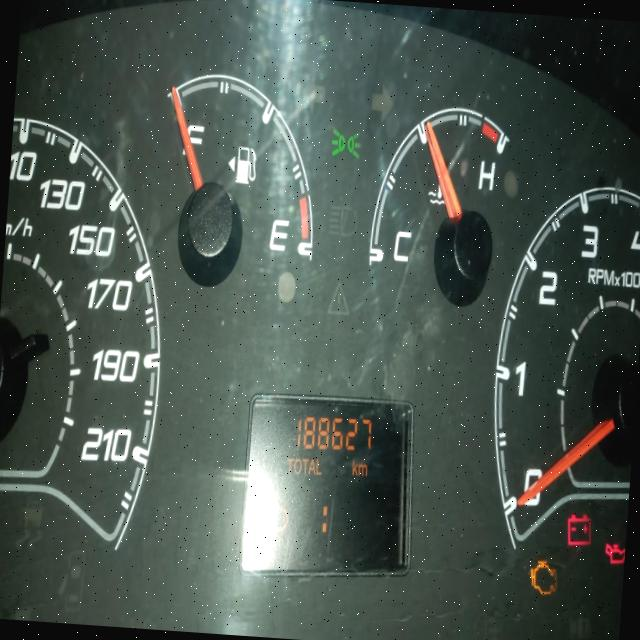odometer: (235, 384, 422, 592)
